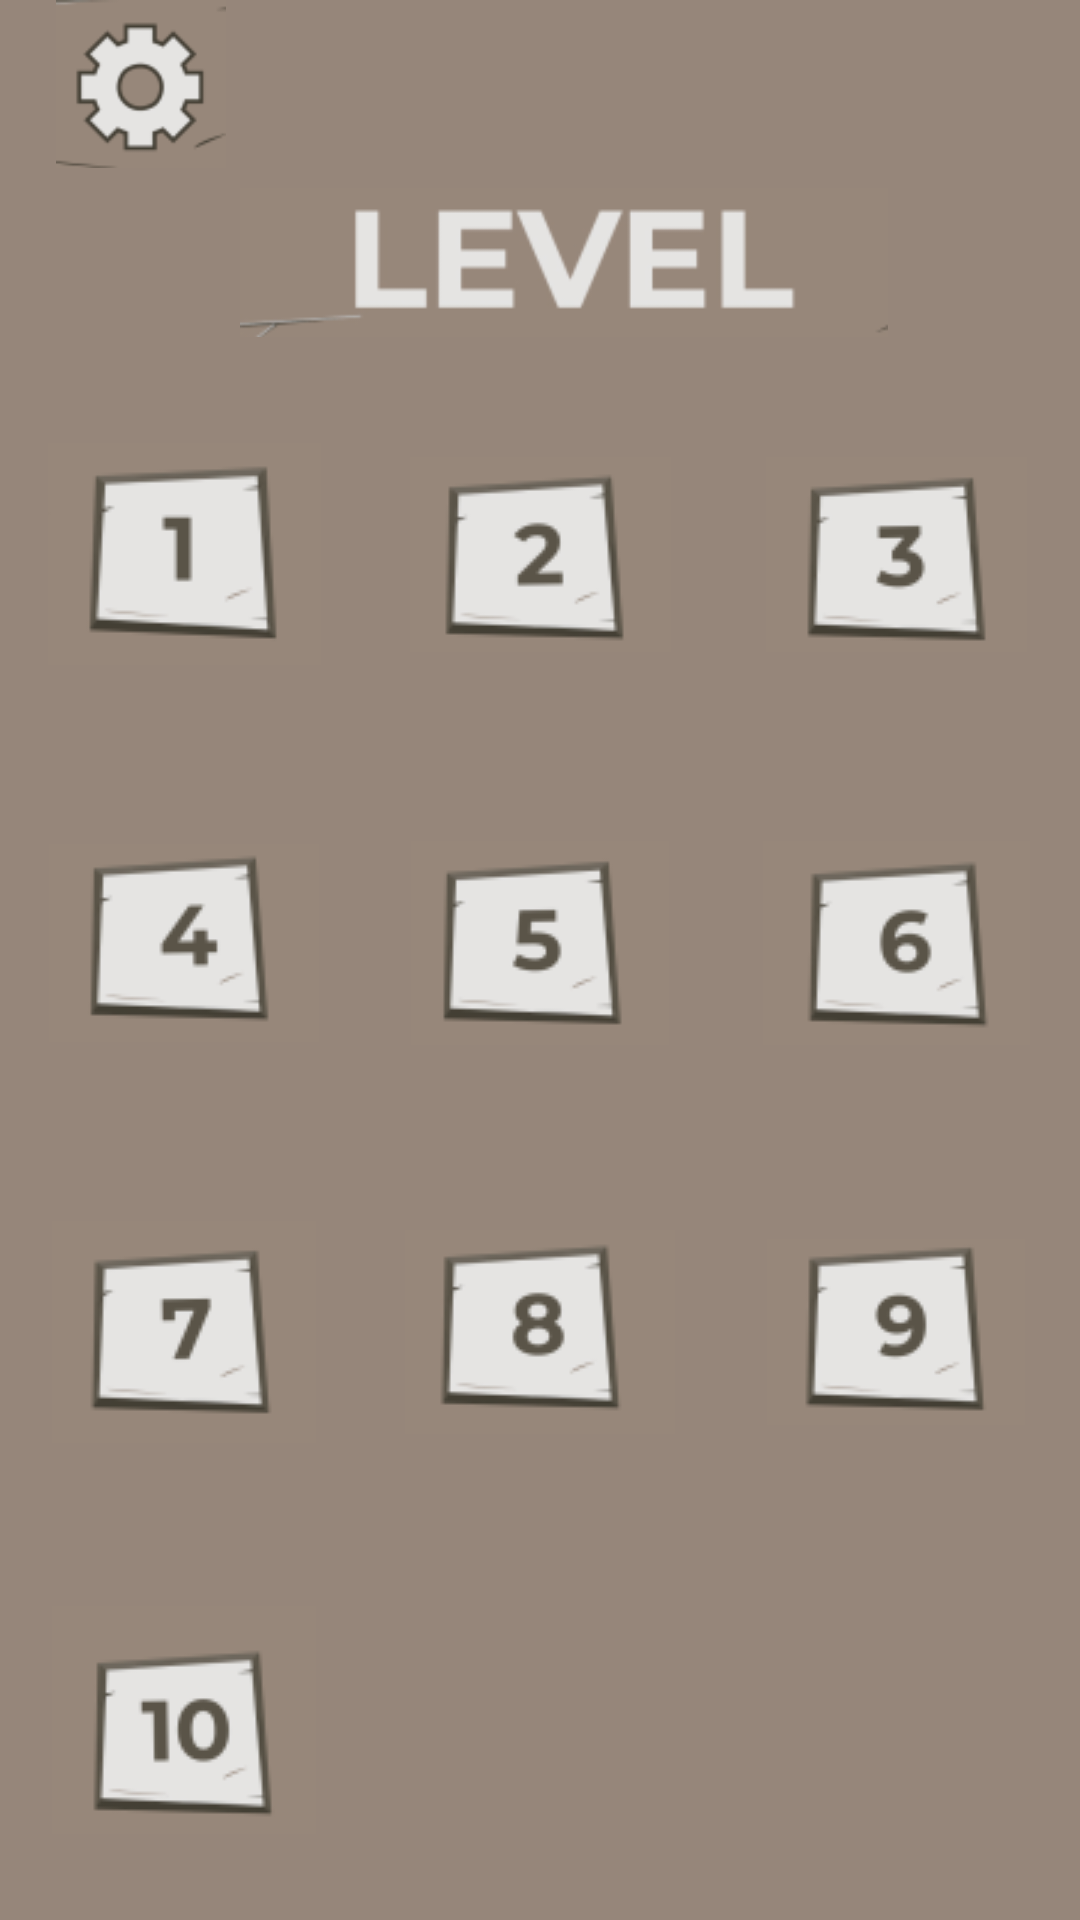

Where to tap for icons on this 1080×1920 app screen, as point (x, y):
set lvl: point (141, 84)
